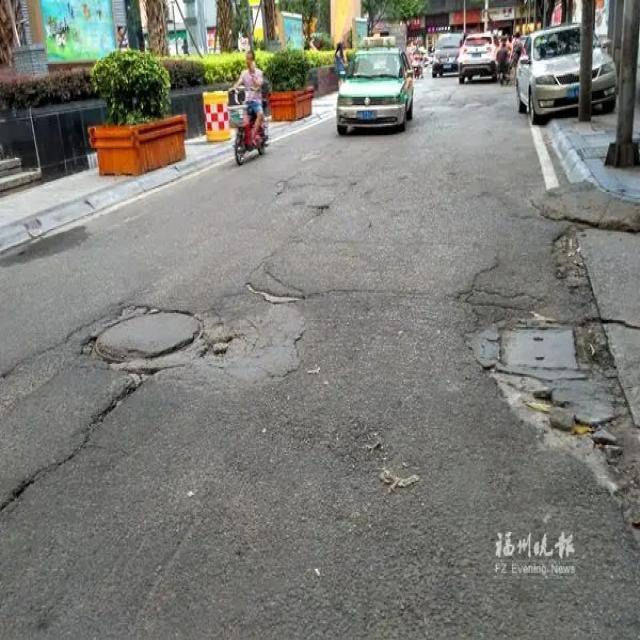pothole: (468, 311, 634, 488), (81, 299, 313, 386), (543, 222, 607, 291), (295, 196, 343, 226)
